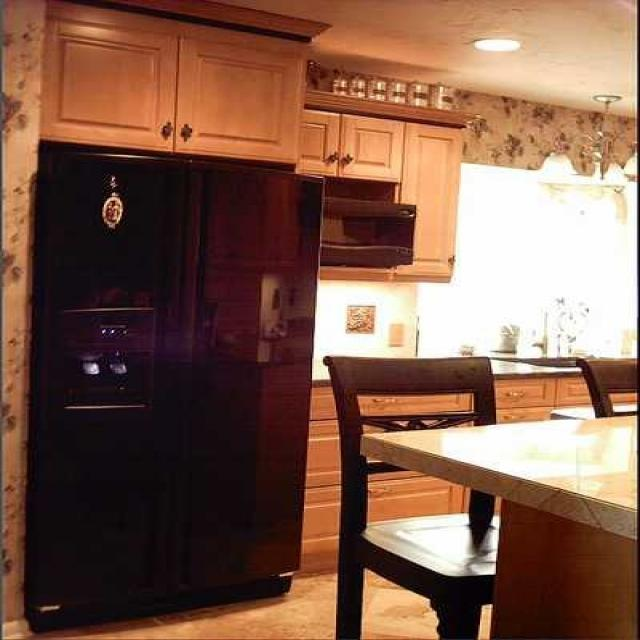refrigerator: (38, 148, 316, 612)
